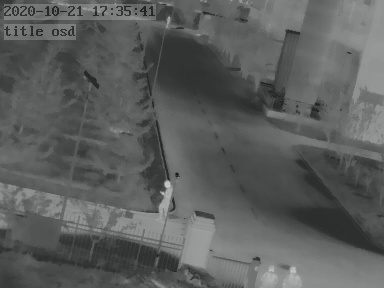person: (156, 179, 172, 219), (261, 263, 279, 288), (282, 265, 301, 288), (165, 14, 171, 29)
